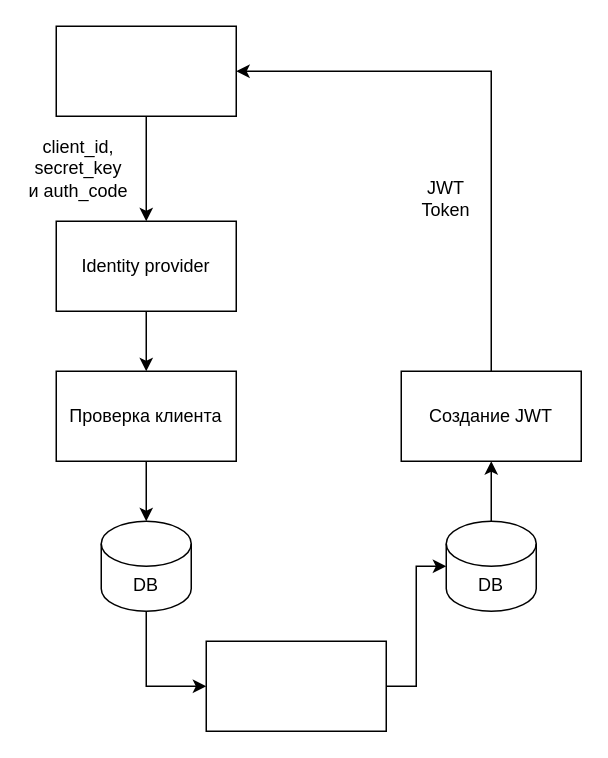
This 608x758 diagram has some shape labels left out. The centre of each missing label's shape, as x and y in pixels:
Клиент: point 145,70
Проверка кода авторизации: point 295,685
